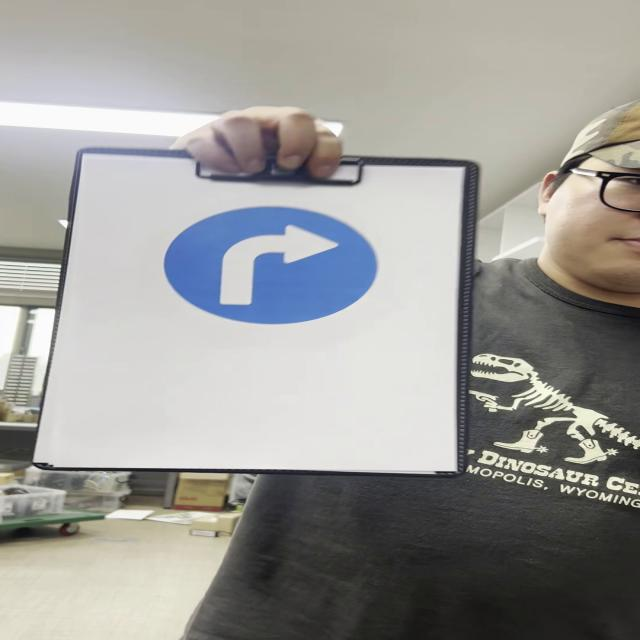right: (160, 205, 379, 324)
